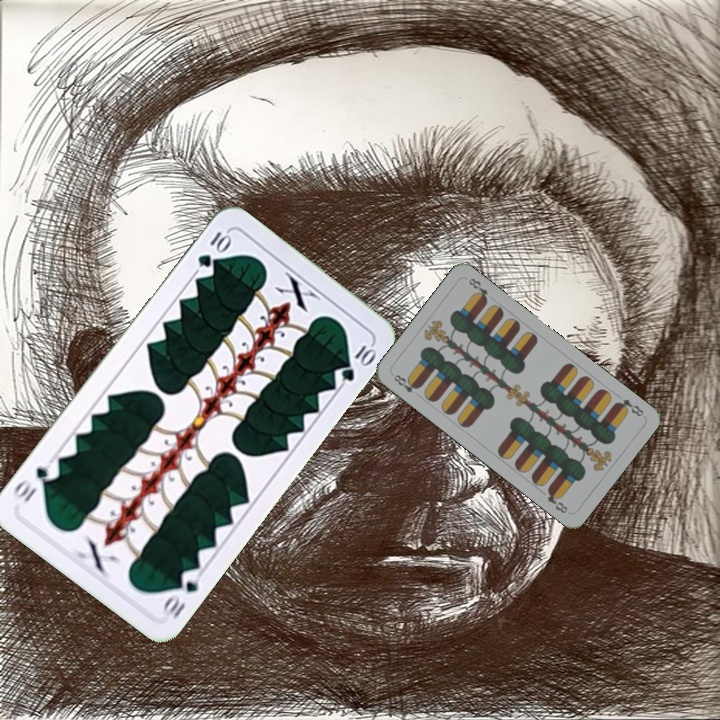E8: (611, 395, 646, 419), (390, 370, 422, 395)
G10: (159, 564, 204, 622), (193, 227, 234, 270)
